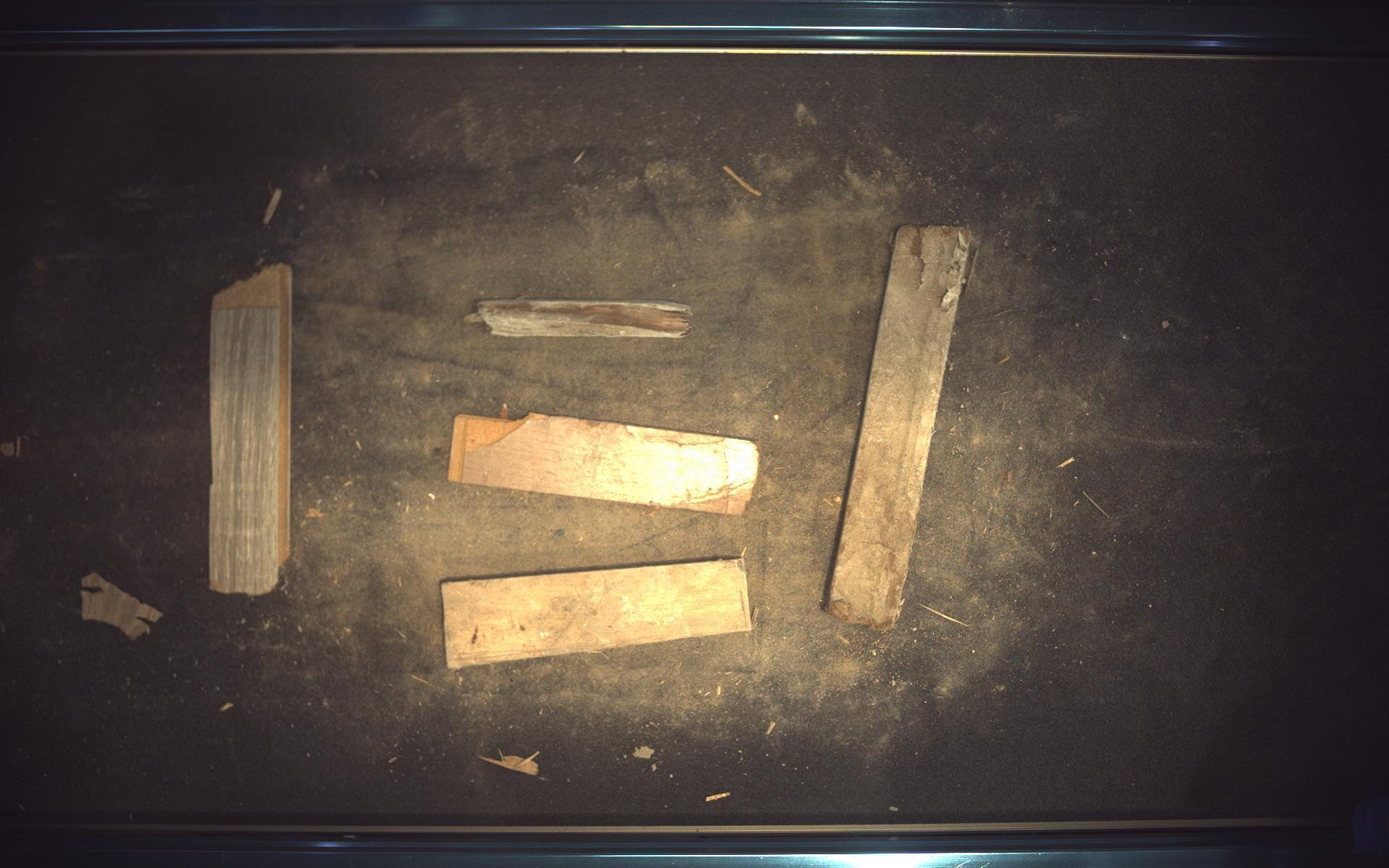wood: (826, 225, 974, 630), (441, 558, 753, 670), (448, 413, 759, 514), (209, 263, 292, 596), (464, 299, 692, 337)
